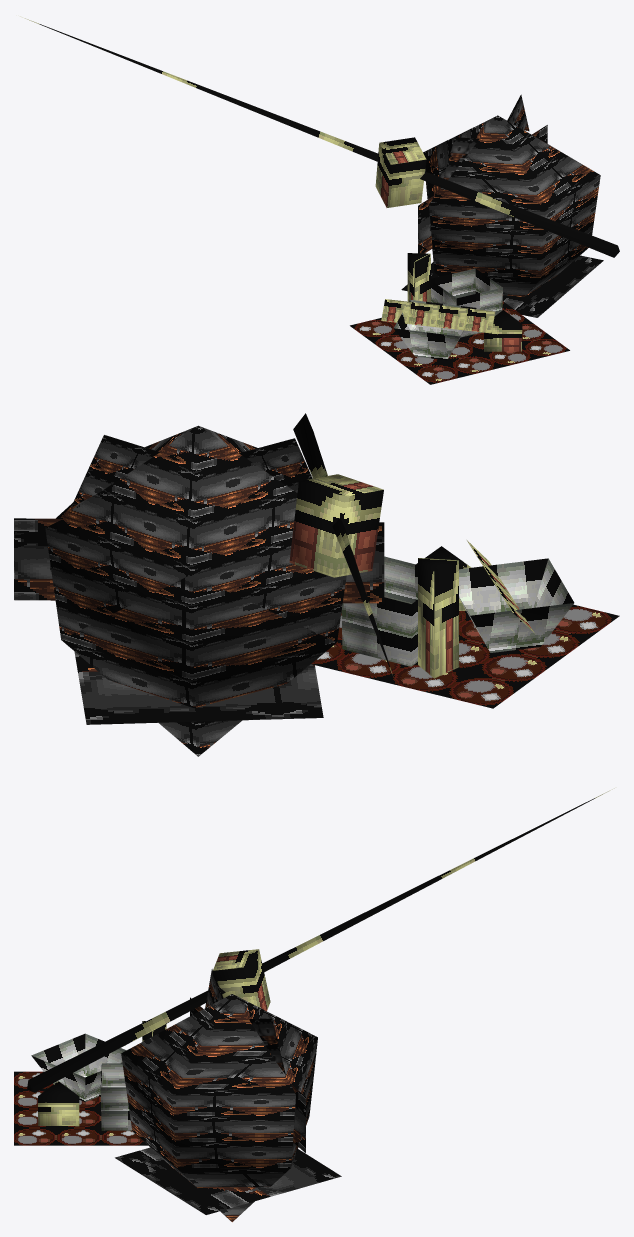
Rendered from 3271IMIG04_05.gltf.
3 renders of one model, top to bottom at view 1: azimuth 30°, elevation 25°; view 2: azimuth 150°, elevation 25°; view 3: azimuth 270°, elevation 25°, orthographic. The views are drawn at different scales.
Visible parts, largest first — view 1: 3271IMIG04_05; view 2: 3271IMIG04_05; view 3: 3271IMIG04_05.
Part boxes in pixels (left/top/right/bottom): 3271IMIG04_05: left=20, top=16, right=619, bottom=384; 3271IMIG04_05: left=14, top=413, right=619, bottom=756; 3271IMIG04_05: left=14, top=788, right=614, bottom=1222.
Bounding box in the file's own units: 1.31 × 0.8059 × 1.6.
4 materials, 4 textured.
